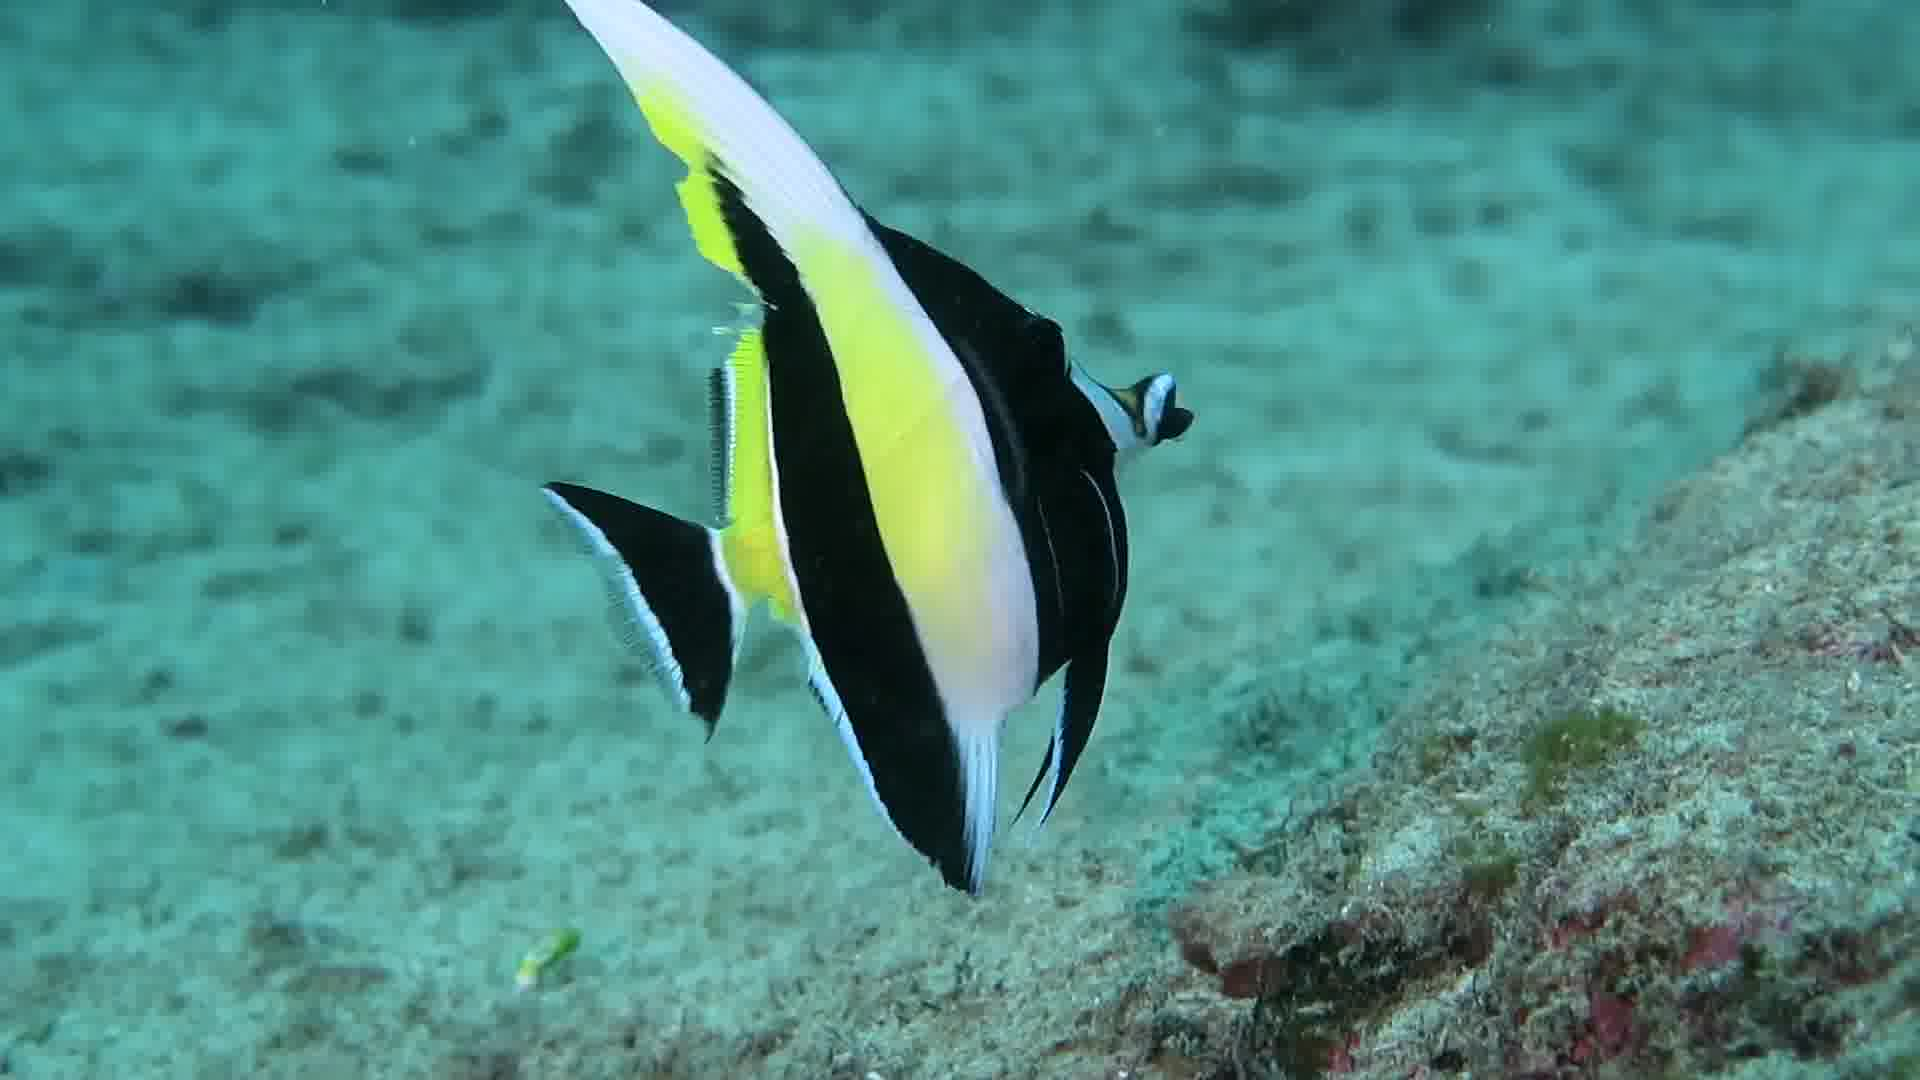Zanclus cornutus: (546, 67, 1226, 885)
